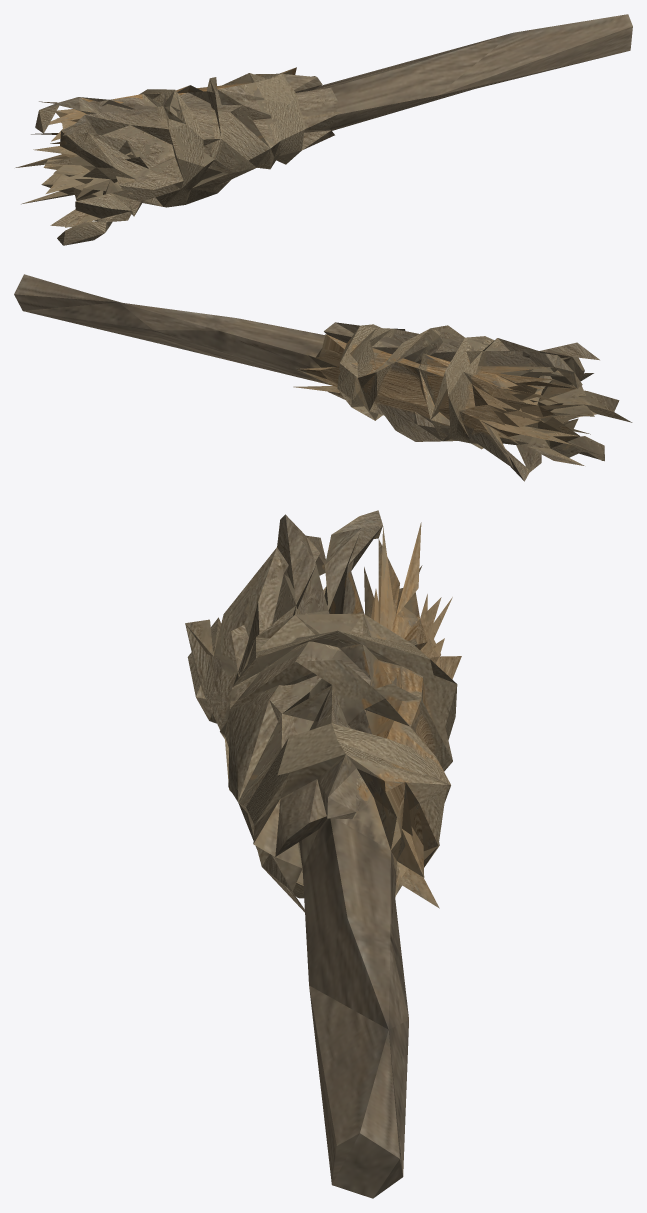
Rendered from torch.fbx.
3 renders of one model, top to bottom at view 1: azimuth 30°, elevation 25°; view 2: azimuth 150°, elevation 25°; view 3: azimuth 270°, elevation 25°, orthographic. The views are drawn at different scales.
Parts seen in each view (by area): view 1: output_unwrapped; view 2: output_unwrapped; view 3: output_unwrapped.
Part boxes in pixels (left/top/right/bottom): output_unwrapped: left=15, top=14, right=632, bottom=245; output_unwrapped: left=14, top=274, right=632, bottom=481; output_unwrapped: left=185, top=510, right=461, bottom=1198.
Size of the model in its own units: 182 by 37.59 by 38.09.
Materials: 1 (1 with a texture image).
